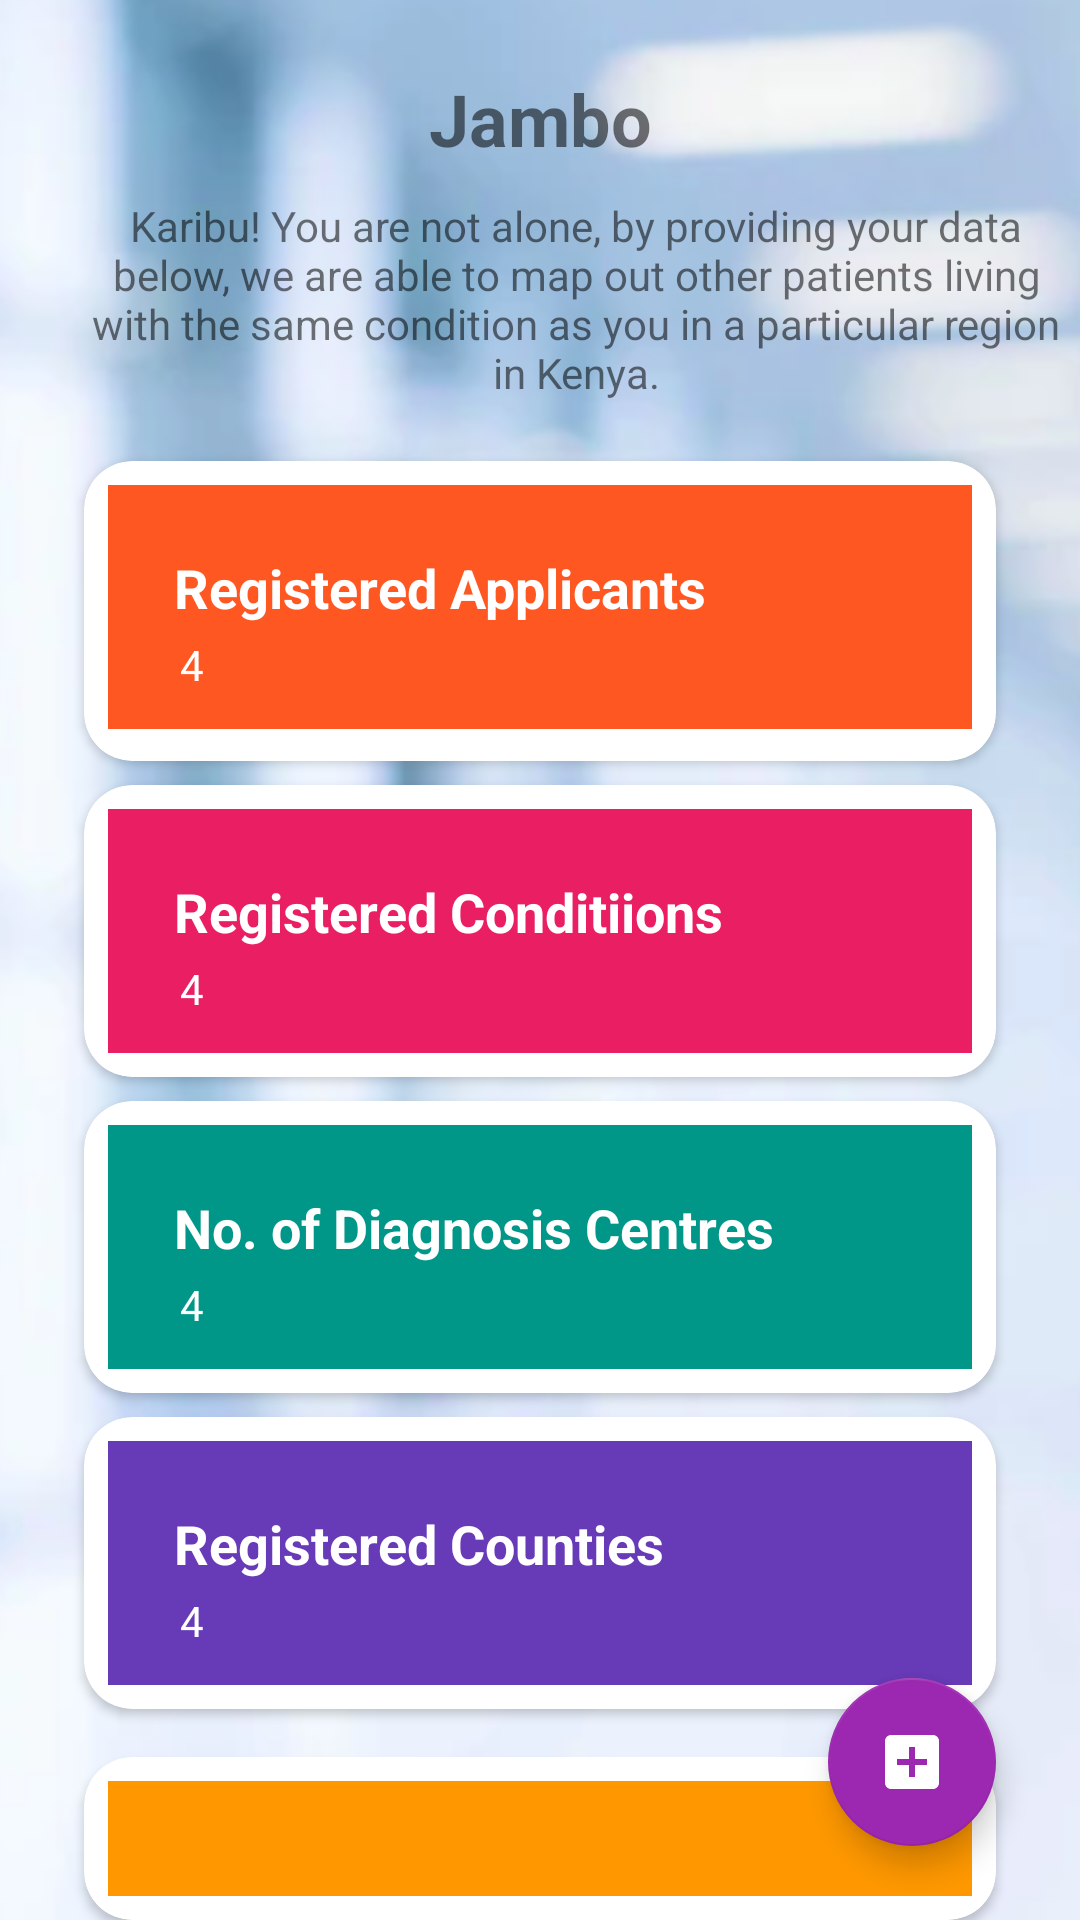

Icon click points for this 1080px x 1920px phone screenshot, format point (x, y):
add: point (912, 1762)
